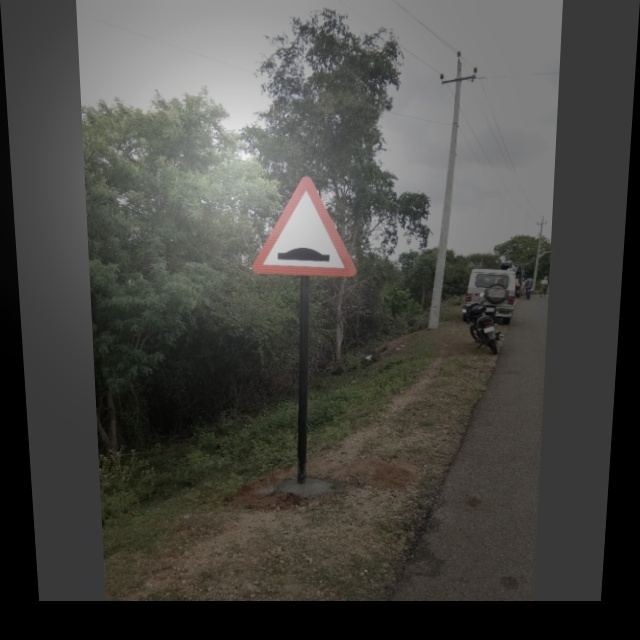Dangerous_Dip: (249, 177, 358, 276)
